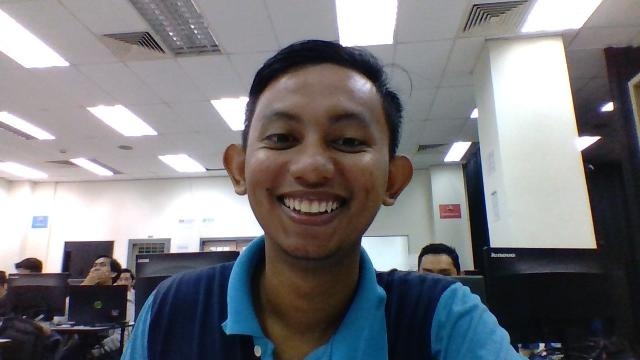senang: (225, 45, 412, 259)
